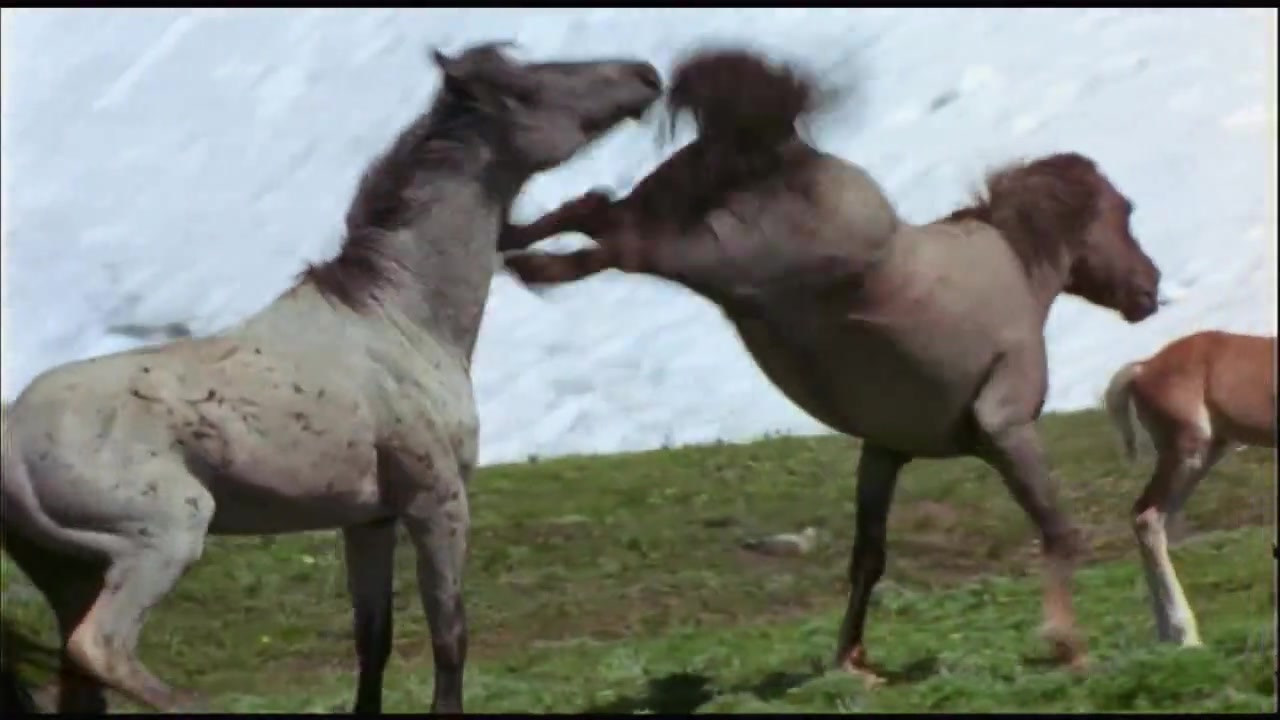horse: (496, 48, 1166, 695)
